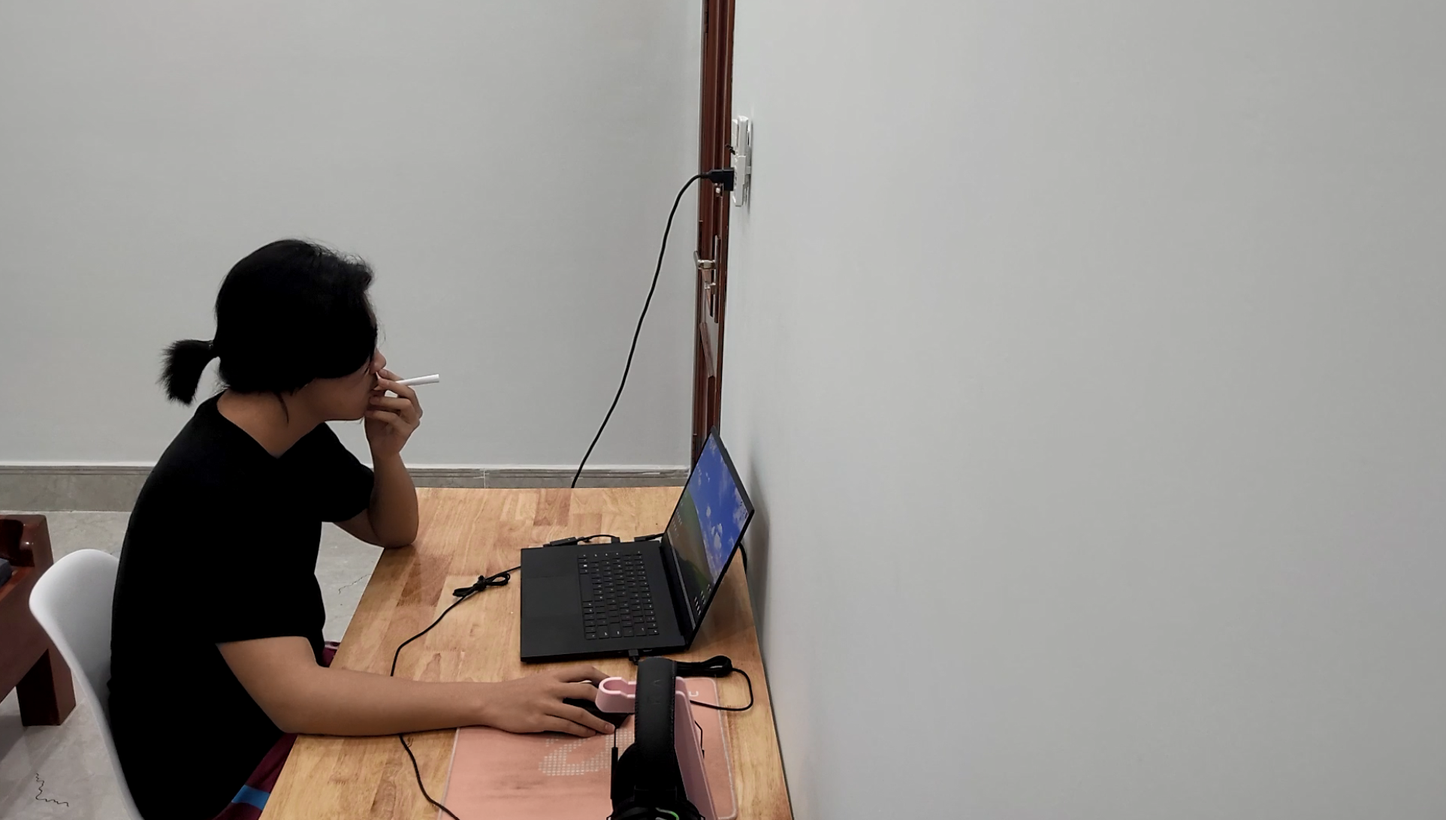cigarette: (385, 366, 443, 396)
person: (96, 210, 456, 820)
